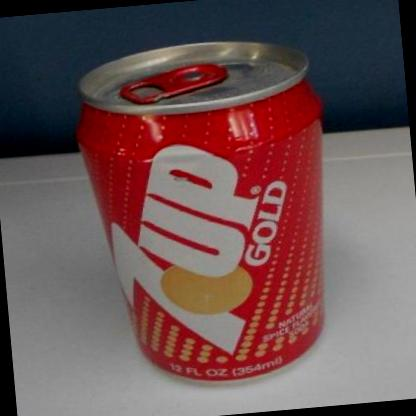alumunium_can: (68, 31, 346, 396)
